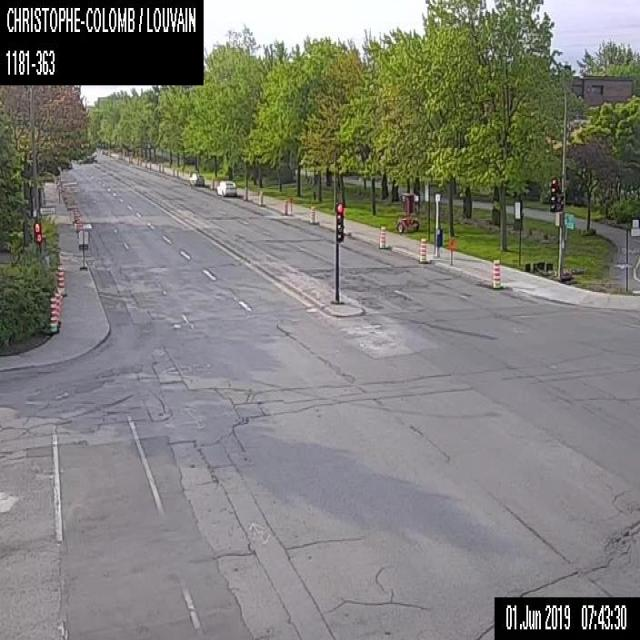construction: (396, 192, 418, 233), (77, 228, 88, 270), (49, 296, 59, 333), (491, 256, 502, 288), (56, 264, 66, 296), (54, 292, 60, 327), (419, 236, 426, 263), (56, 292, 62, 322), (378, 224, 385, 248), (448, 238, 454, 264), (310, 204, 315, 224), (283, 198, 287, 214), (258, 190, 262, 206), (76, 216, 80, 232), (72, 209, 76, 224), (210, 176, 213, 189), (244, 187, 247, 200), (78, 220, 82, 228), (176, 168, 179, 178), (161, 162, 164, 172), (148, 161, 151, 169), (172, 166, 174, 176), (158, 163, 160, 172), (144, 158, 146, 166)
vehicle: (216, 180, 236, 196), (187, 170, 204, 186)
